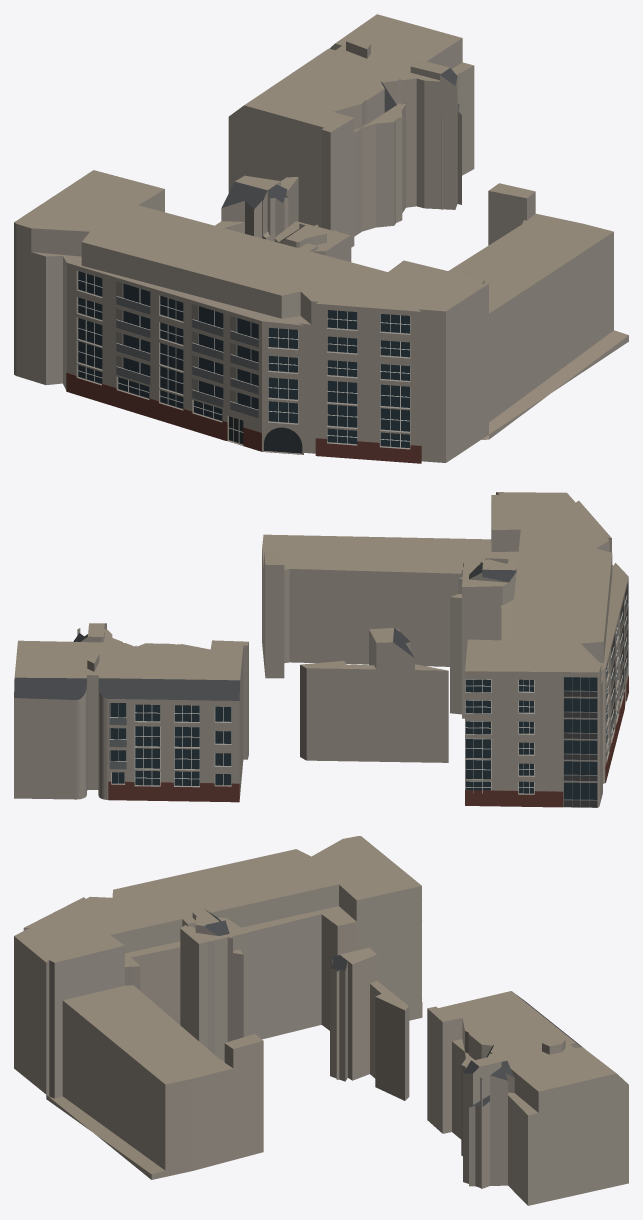
File: recipe-large-lijnbaansgracht-208-167466.glb
3 views of the same model, one above another, from view 1: azimuth 30°, elevation 25°; view 2: azimuth 150°, elevation 25°; view 3: azimuth 270°, elevation 25° (orthographic). The views are drawn at different scales.
Parts seen in each view (by area): view 1: lijnbaansgracht-208-167466; view 2: lijnbaansgracht-208-167466; view 3: lijnbaansgracht-208-167466.
Part boxes in pixels (x1=…): lijnbaansgracht-208-167466: x1=14, y1=14, x2=628, y2=463; lijnbaansgracht-208-167466: x1=14, y1=492, x2=628, y2=807; lijnbaansgracht-208-167466: x1=14, y1=836, x2=628, y2=1205.
Size of the model in its own units: 69.94 by 19.52 by 76.73.
